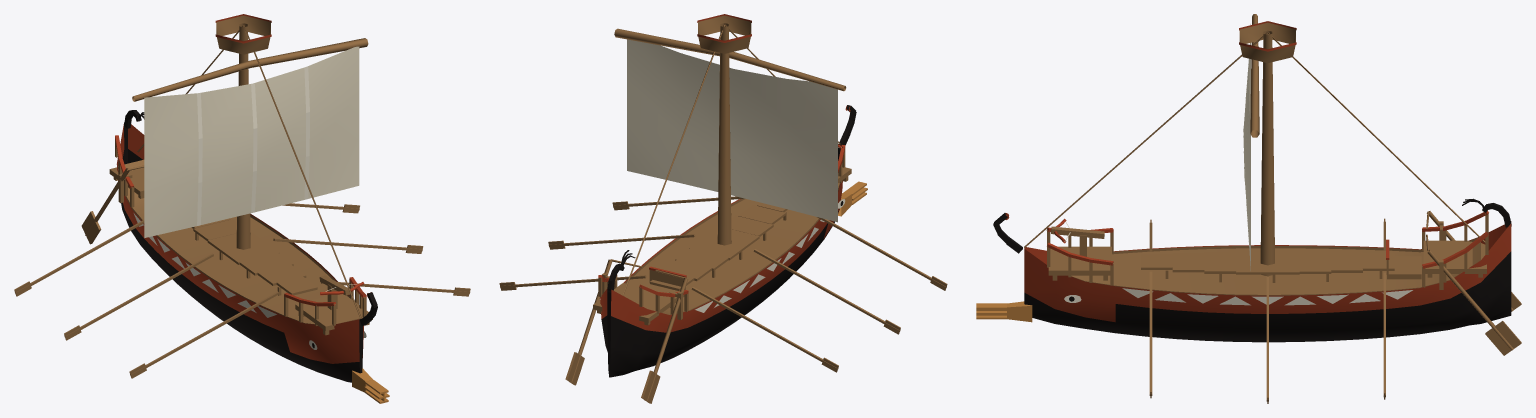
Rendered from ship_ram_blockout_LOD1.obj.
The picture shows the model from 3 angles, left to right: view 1: azimuth 30°, elevation 25°; view 2: azimuth 150°, elevation 25°; view 3: azimuth 270°, elevation 25°; orthographic projection. The views are drawn at different scales.
Parts seen in each view (by area): view 1: ship_ram_blockout_LOD1; view 2: ship_ram_blockout_LOD1; view 3: ship_ram_blockout_LOD1.
Part boxes in pixels (x1,y1,x2,y2): ship_ram_blockout_LOD1: (14, 14, 470, 403); ship_ram_blockout_LOD1: (499, 14, 947, 403); ship_ram_blockout_LOD1: (976, 14, 1521, 403).
Size of the model in its own units: 16.04 by 12.53 by 20.39.
